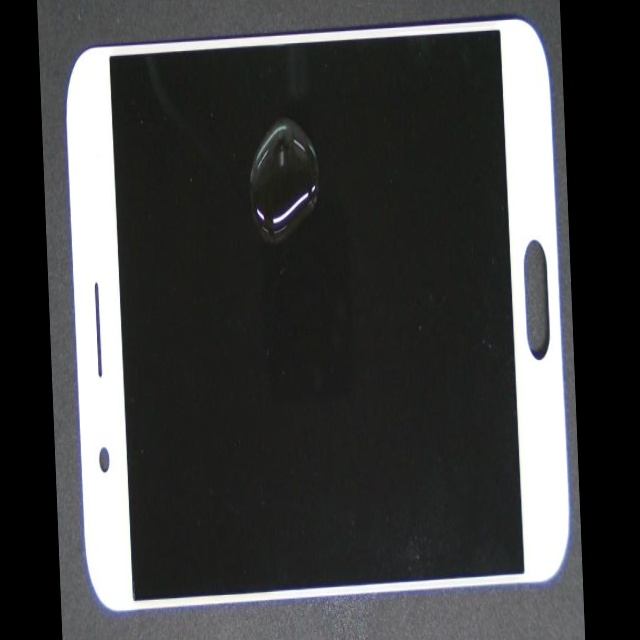oil: (183, 86, 459, 288)
